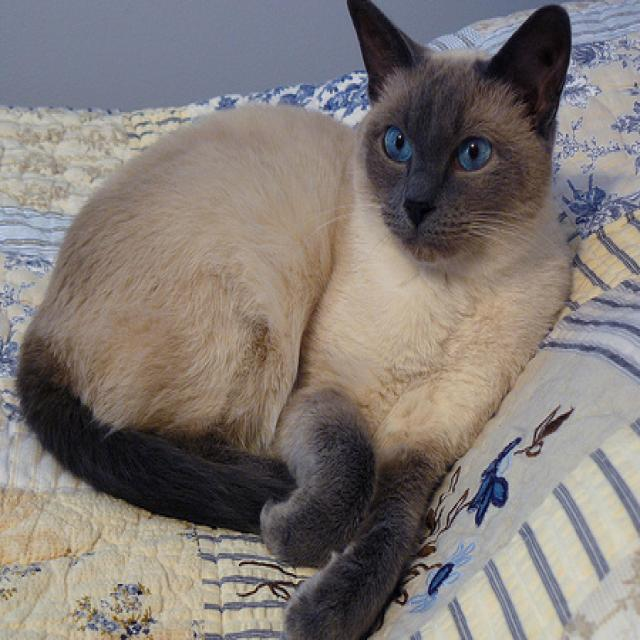Siamese: (13, 0, 576, 640)
